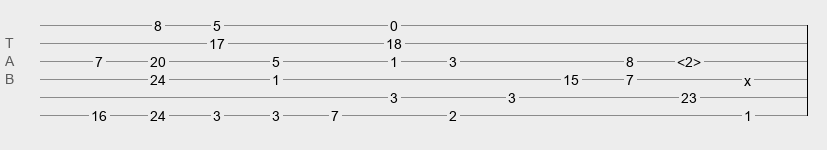0: (390, 18, 398, 28)
1: (272, 72, 280, 82), (390, 54, 398, 64), (744, 108, 752, 118)
15: (563, 72, 579, 82)
16: (91, 108, 107, 118)
17: (209, 36, 225, 46)
18: (386, 36, 402, 46)
2: (449, 108, 457, 118)
20: (150, 54, 166, 64)
23: (681, 90, 697, 100)
24: (150, 72, 166, 82), (150, 108, 166, 118)
3: (213, 108, 221, 118), (272, 108, 280, 118), (390, 90, 398, 100), (449, 54, 457, 64), (508, 90, 516, 100)
5: (213, 18, 221, 28), (272, 54, 280, 64)
7: (95, 54, 103, 64), (331, 108, 339, 118), (626, 72, 634, 82)
8: (154, 18, 162, 28), (626, 54, 634, 64)
harmonic: (677, 54, 701, 64)
x: (744, 73, 751, 81)
